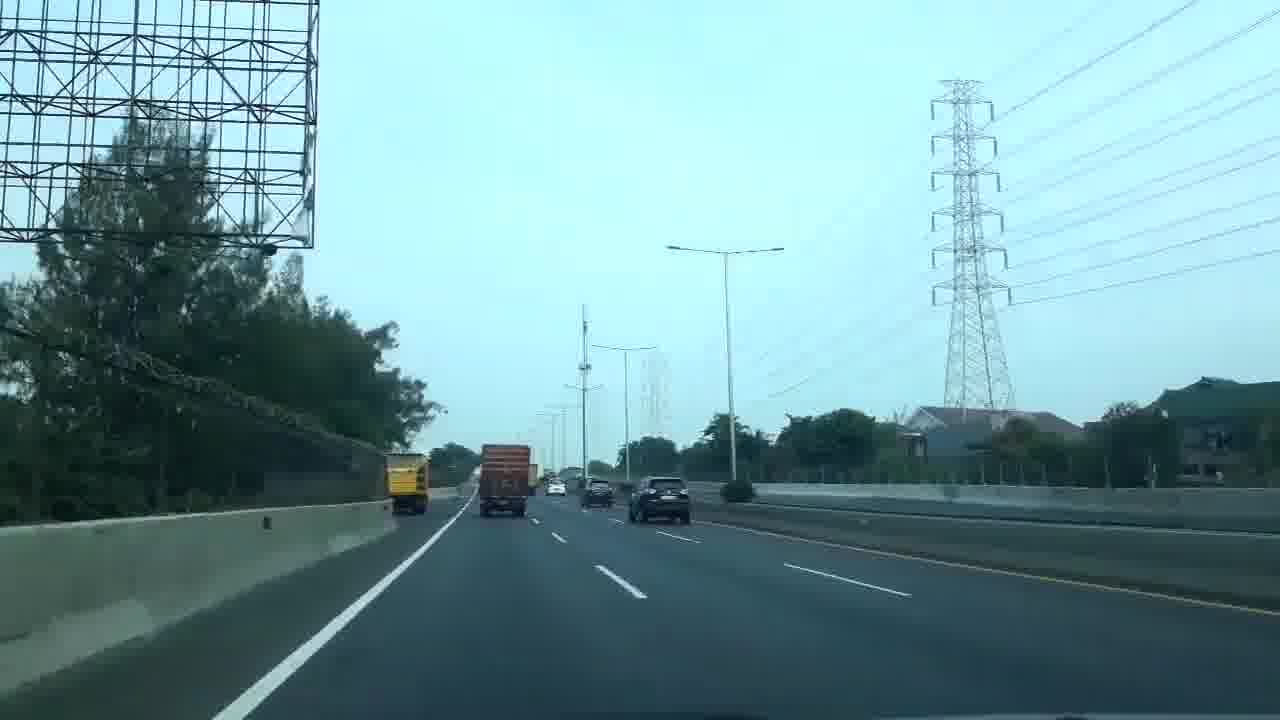plate_positive: (660, 495, 679, 500)
